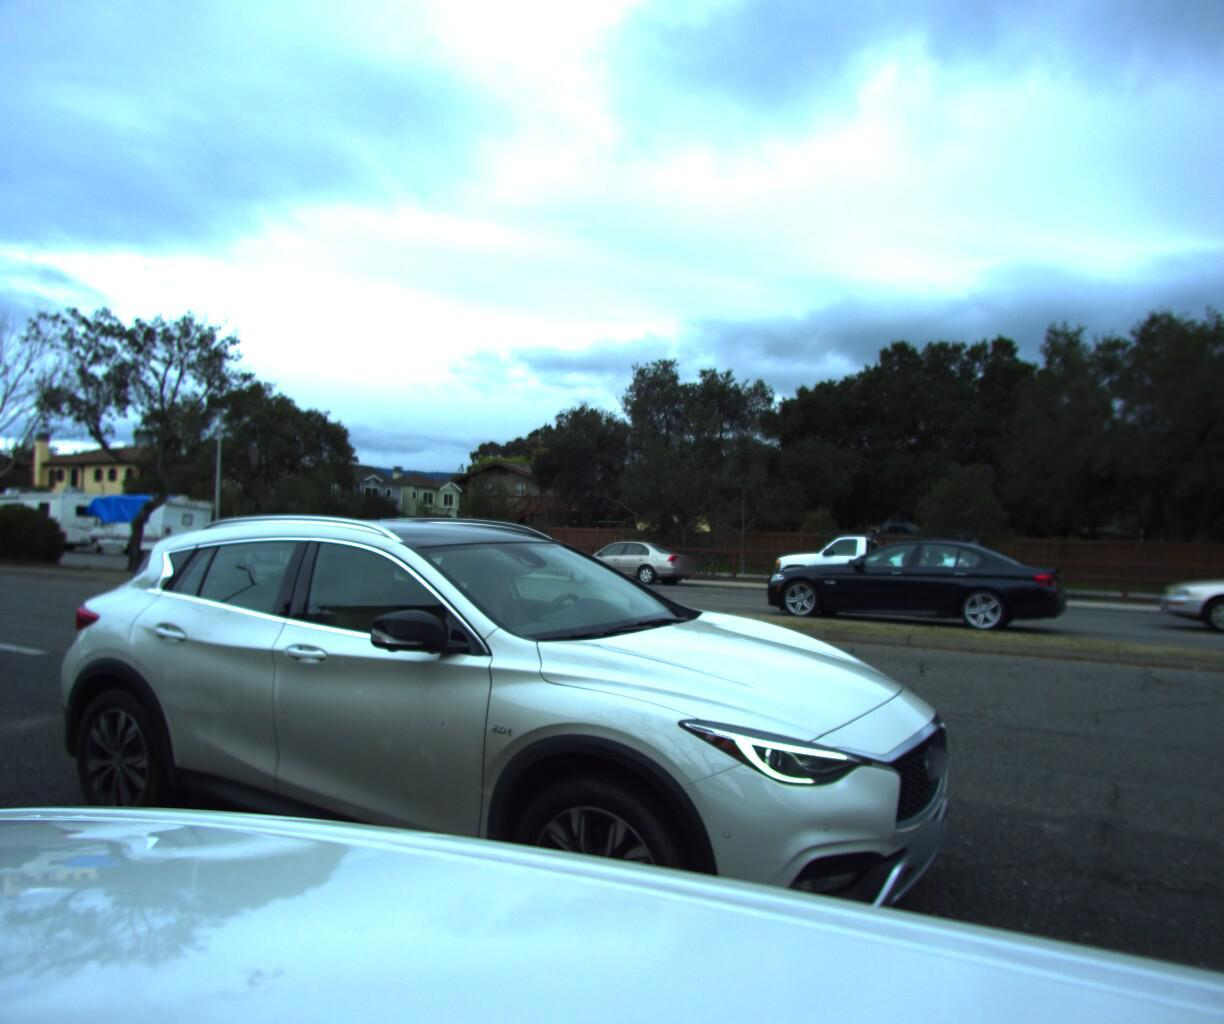car: (22, 511, 950, 1024), (757, 534, 1068, 639), (764, 520, 981, 600), (378, 514, 534, 577), (1153, 542, 1224, 653), (558, 533, 700, 585), (272, 524, 383, 566), (195, 526, 297, 562)
other_vehicle: (75, 487, 218, 561), (0, 480, 112, 553)
